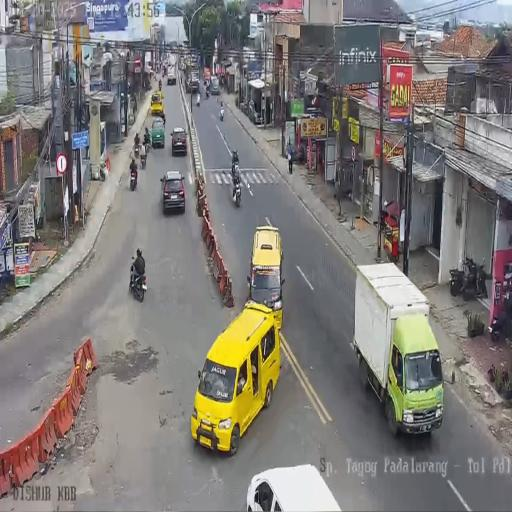3: (352, 261, 441, 439), (179, 56, 187, 72)
car: (190, 304, 282, 455), (246, 463, 344, 510), (247, 223, 284, 326), (161, 170, 185, 214), (170, 125, 188, 156), (148, 116, 165, 148), (150, 91, 164, 115), (166, 59, 176, 85), (187, 74, 200, 94), (210, 76, 219, 95), (203, 67, 211, 83)
truck: (461, 253, 482, 297), (129, 258, 147, 302), (490, 309, 505, 342), (232, 172, 242, 207), (129, 164, 138, 191), (140, 148, 147, 169), (144, 127, 150, 147), (134, 140, 140, 158), (219, 106, 225, 121), (205, 85, 210, 99), (196, 92, 200, 106), (158, 79, 162, 91), (162, 65, 166, 77)
